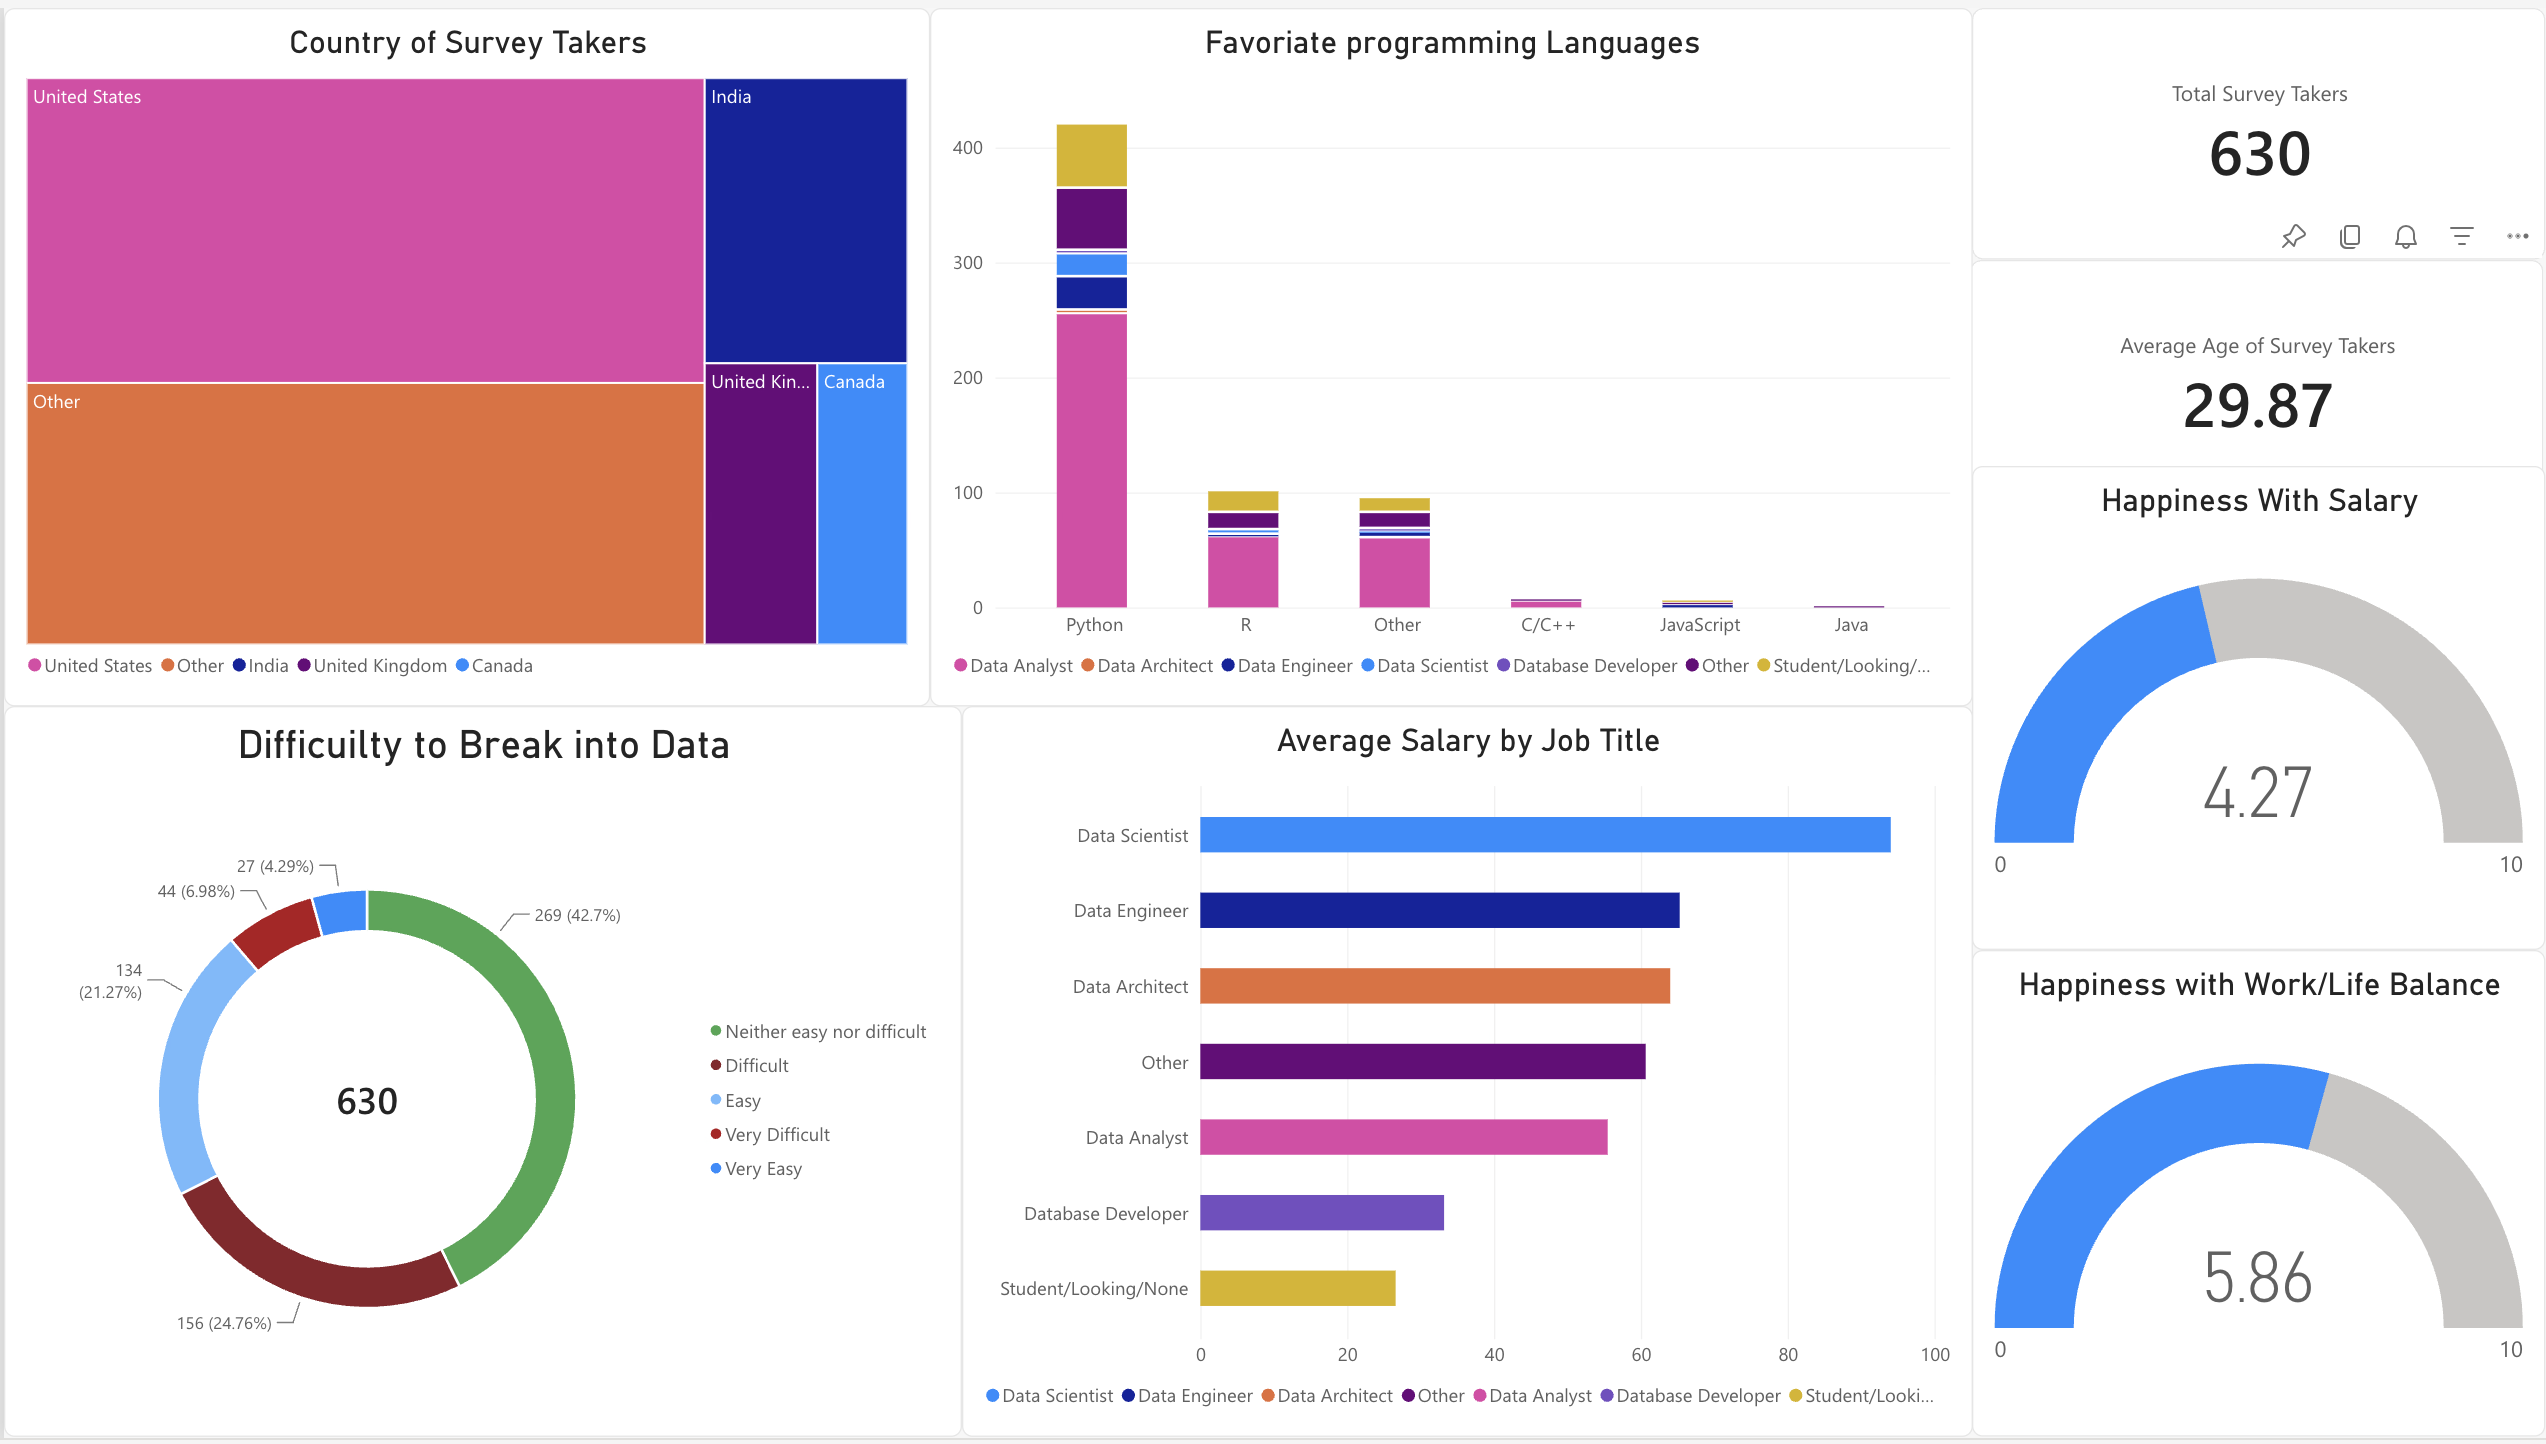

Layout of this report page (visuals, bound fields, positions):
{"tool":"powerbi","page":{"name":"POWER","canvas":[1920,1080],"ordinal":0},"visuals":[{"type":"cardVisual","fields":{"Data":["Count(Data Professional Survey.Unique ID)"]},"box":[1486.9,0,433.1,190.9],"z":0},{"type":"cardVisual","fields":{"Data":["Avg(Data Professional Survey.Q10 - Current Age)"]},"box":[1485,190.9,433.1,190.9],"z":1000},{"type":"barChart","title":"Average Salary by Job Title","fields":{"Category":["Data Professional Survey.Q1 - Which Title Best Fits your Current Role?.1"],"Series":["Data Professional Survey.Q1 - Which Title Best Fits your Current Role?.1"],"Y":["Avg(Data Professional Survey.Average_Salary)"]},"box":[723.4,527.7,763.5,551.8],"z":2000},{"type":"columnChart","title":"Favoriate programming Languages","fields":{"Category":["Data Professional Survey.Q5 - Favorite Programming Language.2"],"Series":["Data Professional Survey.Q1 - Which Title Best Fits your Current Role?.1"],"Y":["CountNonNull(Data Professional Survey.Unique ID)"]},"box":[699.3,0,787.6,527.7],"z":3000},{"type":"treemap","title":"Country of Survey Takers","fields":{"Group":["Data Professional Survey.Q11 - Which Country do you live in?.1"],"Values":["CountNonNull(Data Professional Survey.Q11 - Which Country do you live in?.1)"]},"box":[0,0,699.3,527.7],"z":4000},{"type":"gauge","title":"Happiness with Work/Life Balance","fields":{"MaxValue":["Max(Data Professional Survey.Q6 - How Happy are you in your Current Position with the following? (Coworkers))"],"MinValue":["Min(Data Professional Survey.Q6 - How Happy are you in your Current Position with the following? (Coworkers))"],"Y":["Avg(Data Professional Survey.Q6 - How Happy are you in your Current Position with the following? (Coworkers))"]},"box":[1486.9,712.2,433.1,367.3],"z":5000},{"type":"gauge","title":"Happiness With Salary","fields":{"MaxValue":["Max(Data Professional Survey.Q6 - How Happy are you in your Current Position with the following? (Salary))"],"MinValue":["Min(Data Professional Survey.Q6 - How Happy are you in your Current Position with the following? (Salary))"],"Y":["Avg(Data Professional Survey.Q6 - How Happy are you in your Current Position with the following? (Salary))"]},"box":[1486.9,346.5,433.1,365.7],"z":6000},{"type":"donutChart","title":"Difficuilty to Break into Data","fields":{"Category":["Data Professional Survey.Q7 - How difficult was it for you to break into Data?"],"Y":["CountNonNull(Data Professional Survey.Average_Salary)"]},"box":[0,527.7,723.4,551.8],"z":7000}]}

Visuals, with their boxes in screenshot pixels (x1, y1, x2, y2), scaled from the page's 1920x1080 canvas onto the 2546x1444 screenshot:
cardVisual - Count(Data Professional Survey.Unique ID): box(1972, 0, 2545, 255)
cardVisual - Avg(Data Professional Survey.Q10 - Current Age): box(1969, 255, 2543, 510)
"Average Salary by Job Title" barChart: box(959, 706, 1972, 1443)
"Favoriate programming Languages" columnChart: box(927, 0, 1972, 706)
"Country of Survey Takers" treemap: box(0, 0, 927, 706)
"Happiness with Work/Life Balance" gauge: box(1972, 952, 2545, 1443)
"Happiness With Salary" gauge: box(1972, 463, 2545, 952)
"Difficuilty to Break into Data" donutChart: box(0, 706, 959, 1443)
